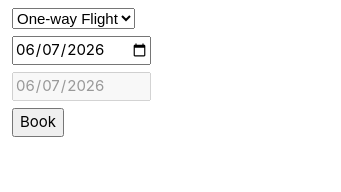
Test: FlightBooker › 往復便を選ぶと復路の入力欄が有効になる
Step 1. Select "Return Flight" in the dropdown → (74, 18), box [12,8,135,28]
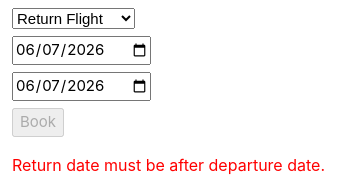
expect the date field with id "return-date" is enabled: met, box [12,72,151,100]
